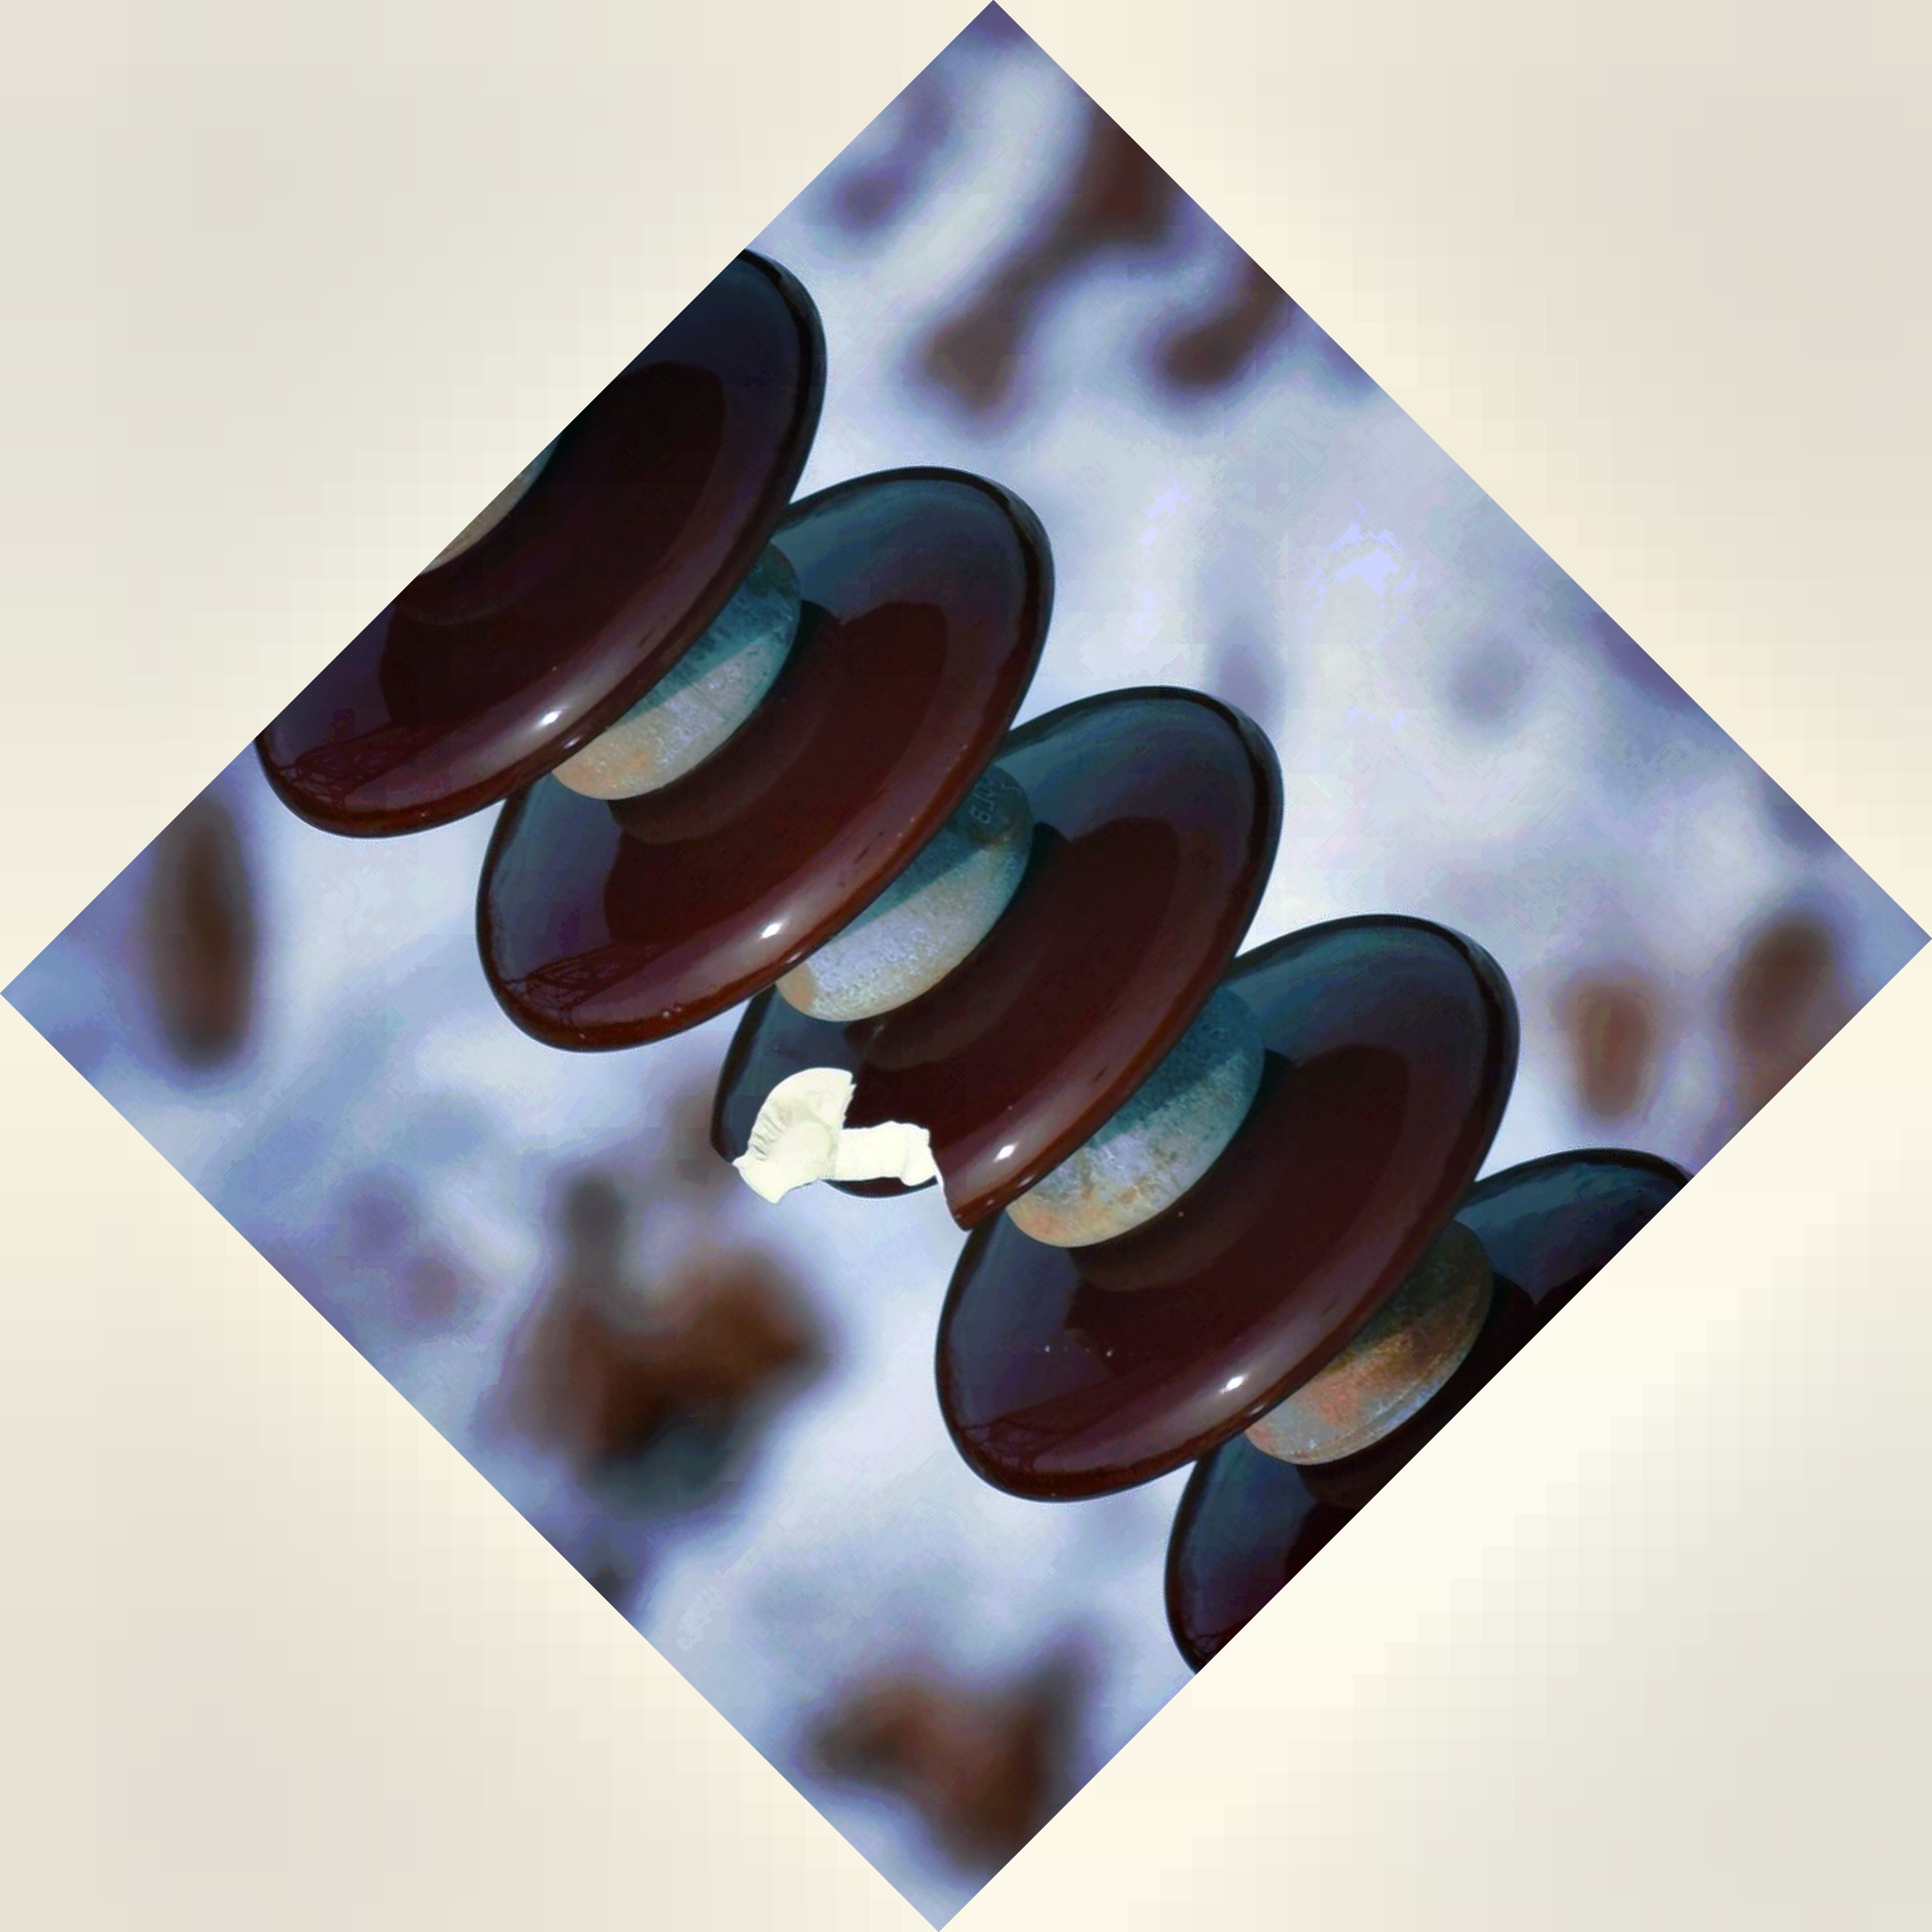insulator breakage: (686, 678, 1288, 1247)
